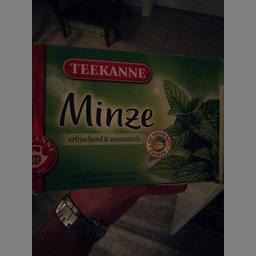tea: (32, 42, 221, 193)
